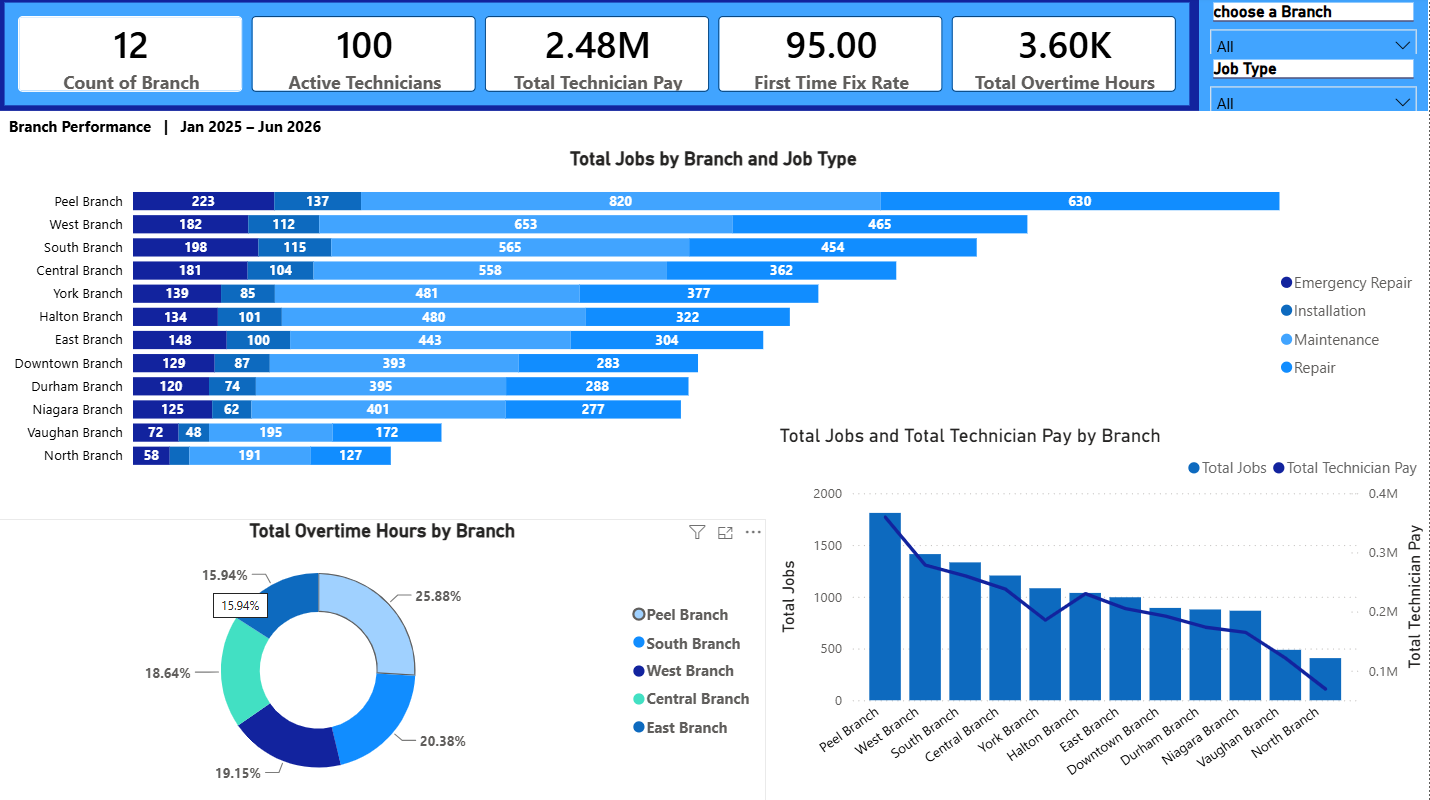

This screenshot's page, from the dashboard's own definition file:
{"tool":"powerbi","page":{"name":"Page 2","canvas":[1280,720],"ordinal":1},"visuals":[{"type":"cardVisual","fields":{"Data":["Count(operations.Branch)","operations.Active Technicians","operations.Total Technician Pay","operations.First Time Fix Rate","operations.Total Overtime Hours"]},"box":[0,0,1074.8,102.1],"z":0},{"type":"barChart","fields":{"Category":["operations.Branch"],"Series":["operations.Job Type"],"Y":["operations.Total Jobs"]},"box":[0,134.3,1279.7,298.2],"z":1000},{"type":"donutChart","fields":{"Category":["operations.Branch"],"Y":["operations.Total Overtime Hours"]},"box":[0,467.8,686.7,251.9],"z":2000},{"type":"lineStackedColumnComboChart","fields":{"Category":["operations.Branch"],"Y":["operations.Total Jobs"],"Y2":["operations.Total Technician Pay"]},"box":[694,382.4,585.7,336.7],"z":4000},{"type":"textbox","box":[0,102.1,296.7,32.1],"z":5000},{"type":"slicer","fields":{"Values":["operations.Job Type"]},"box":[1074.6,51,205.1,51],"z":6000},{"type":"slicer","title":"Choose a Branch  Below","fields":{"Values":["operations.Branch"]},"box":[1074.6,0,205.1,51],"z":7000}]}

Visuals, with their boxes in screenshot pixels (x1, y1, x2, y2), scaled from the page's 1280x720 canvas onto the 1430x800 screenshot:
cardVisual - Count(operations.Branch) x operations.Active Technicians: {"left": 0, "top": 0, "right": 1201, "bottom": 113}
barChart - operations.Branch x operations.Job Type: {"left": 0, "top": 149, "right": 1429, "bottom": 481}
donutChart - operations.Branch x operations.Total Overtime Hours: {"left": 0, "top": 520, "right": 767, "bottom": 799}
lineStackedColumnComboChart - operations.Branch x operations.Total Jobs: {"left": 775, "top": 425, "right": 1429, "bottom": 799}
textbox: {"left": 0, "top": 113, "right": 331, "bottom": 149}
slicer - operations.Job Type: {"left": 1201, "top": 57, "right": 1429, "bottom": 113}
"Choose a Branch  Below" slicer: {"left": 1201, "top": 0, "right": 1429, "bottom": 57}
